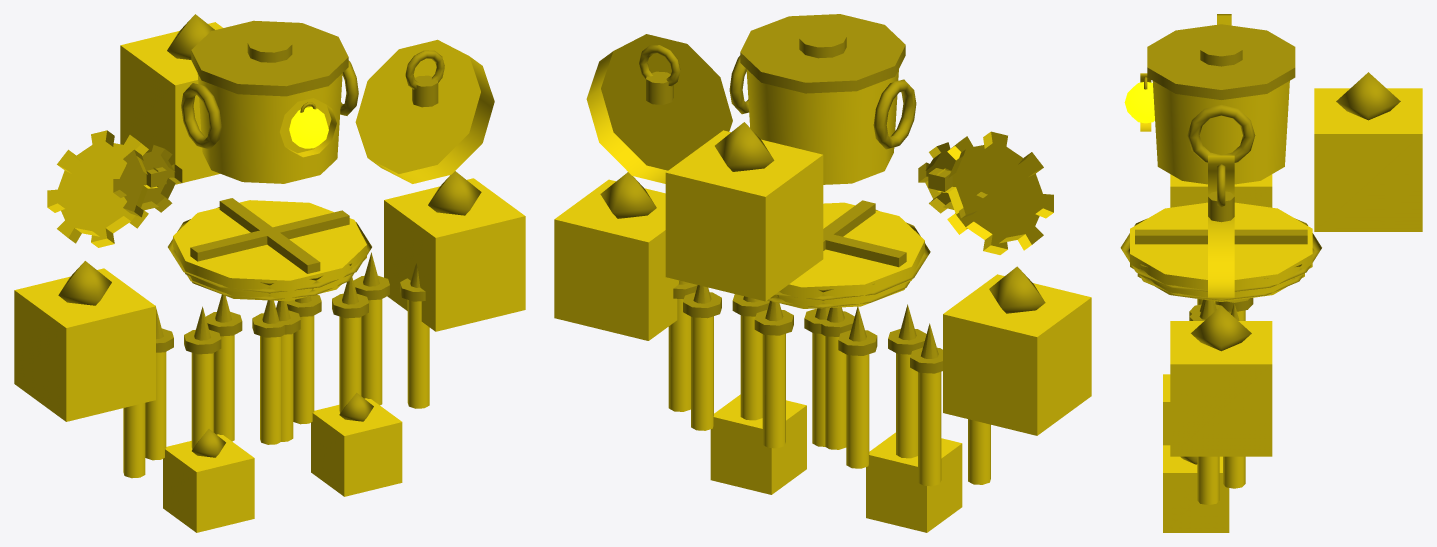
File: golem_017.glb
The picture shows the model from 3 angles, left to right: view 1: azimuth 30°, elevation 25°; view 2: azimuth 150°, elevation 25°; view 3: azimuth 270°, elevation 25°; orthographic projection. The views are drawn at different scales.
Parts seen in each view (by area): view 1: Body, Detail, Glow; view 2: Body, Detail; view 3: Body, Detail, Glow.
Boxes of the visible parts, <box> form: Body: <box>14,22,525,532</box>; Detail: <box>58,14,481,457</box>; Glow: <box>289,107,328,148</box>; Body: <box>554,34,1091,532</box>; Detail: <box>600,14,1045,373</box>; Body: <box>1130,14,1422,532</box>; Detail: <box>1120,24,1400,464</box>; Glow: <box>1124,82,1154,123</box>.
Size of the model in its own units: 1.33 by 1.23 by 0.7689.
